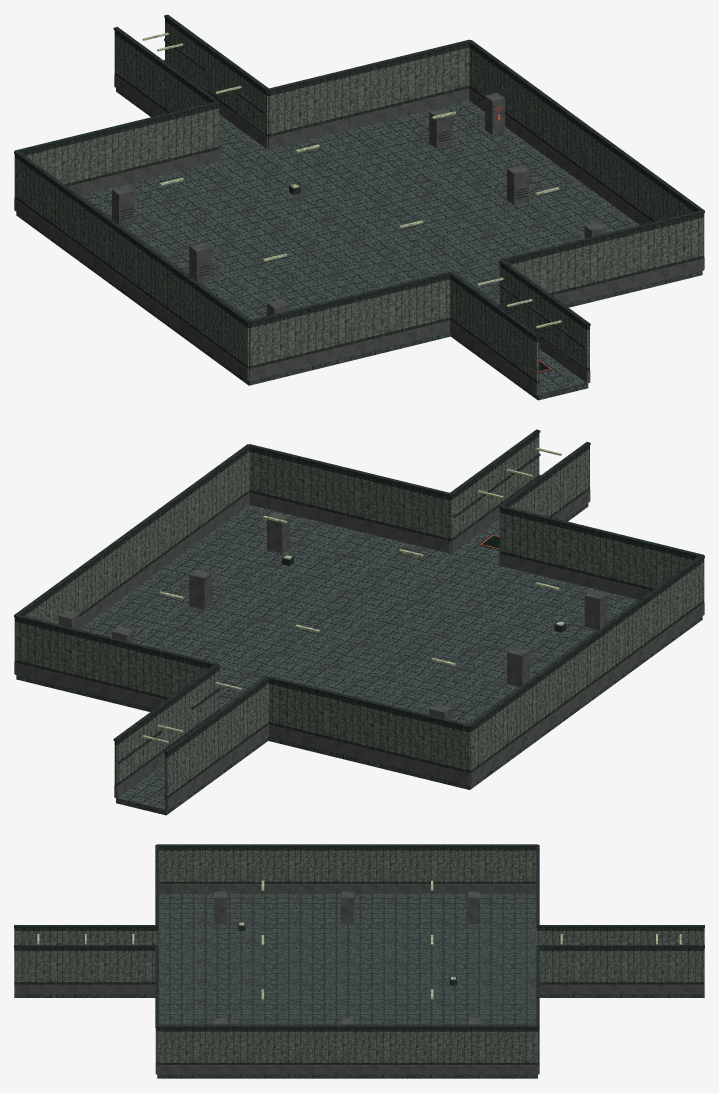
Rendered from FERI_Route_C.fbx.
3 renders of one model, top to bottom at view 1: azimuth 30°, elevation 25°; view 2: azimuth 150°, elevation 25°; view 3: azimuth 270°, elevation 25°, orthographic. The views are drawn at different scales.
Visible parts, largest first — view 1: PL_Route_C_Wall, PL_Route_C_Floor, PL_Route_C_Concrete, PL_Route_C_Iron, PL_Route_C_Tube; view 2: PL_Route_C_Wall, PL_Route_C_Floor, PL_Route_C_Concrete, PL_Route_C_Iron, PL_Route_C_Tube; view 3: PL_Route_C_Floor, PL_Route_C_Wall, PL_Route_C_Concrete, PL_Route_C_Iron, PL_Route_C_Tube.
Boxes of the visible parts, <box> form: PL_Route_C_Wall: <box>14,18,704,383</box>; PL_Route_C_Floor: <box>16,88,702,400</box>; PL_Route_C_Concrete: <box>14,75,704,395</box>; PL_Route_C_Iron: <box>14,14,704,369</box>; PL_Route_C_Tube: <box>142,32,561,328</box>; PL_Route_C_Wall: <box>14,433,704,798</box>; PL_Route_C_Floor: <box>16,503,702,815</box>; PL_Route_C_Concrete: <box>14,490,704,810</box>; PL_Route_C_Iron: <box>14,429,704,784</box>; PL_Route_C_Tube: <box>142,447,564,743</box>; PL_Route_C_Floor: <box>14,894,704,1078</box>; PL_Route_C_Wall: <box>14,847,704,1064</box>; PL_Route_C_Concrete: <box>14,884,704,1074</box>; PL_Route_C_Iron: <box>14,844,704,1028</box>; PL_Route_C_Tube: <box>37,880,681,999</box>.
Size of the model in its own units: 36.3 by 4.86 by 58.08.
